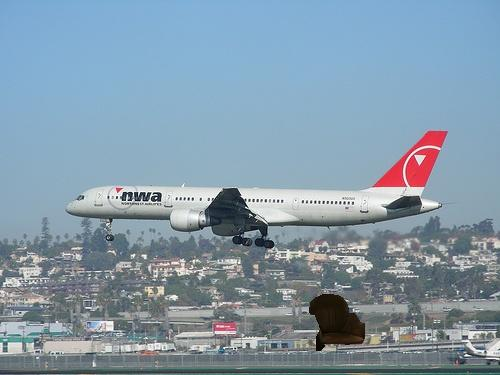tampered: (310, 295, 365, 351)
